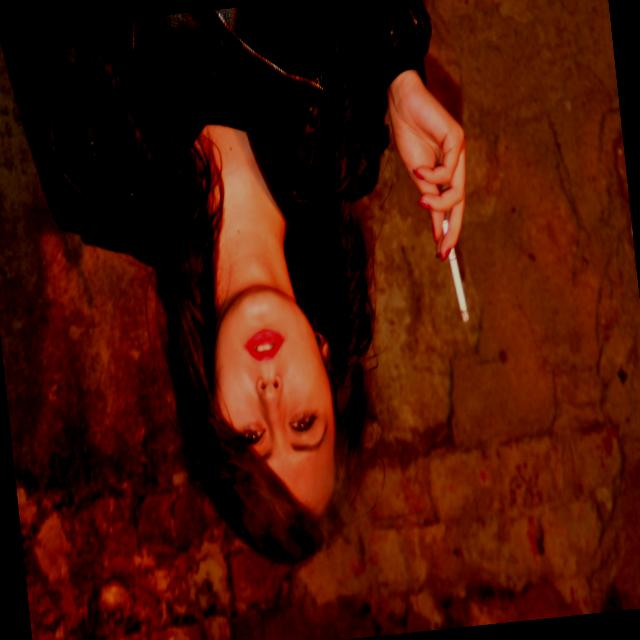smoke: (428, 212, 482, 336)
